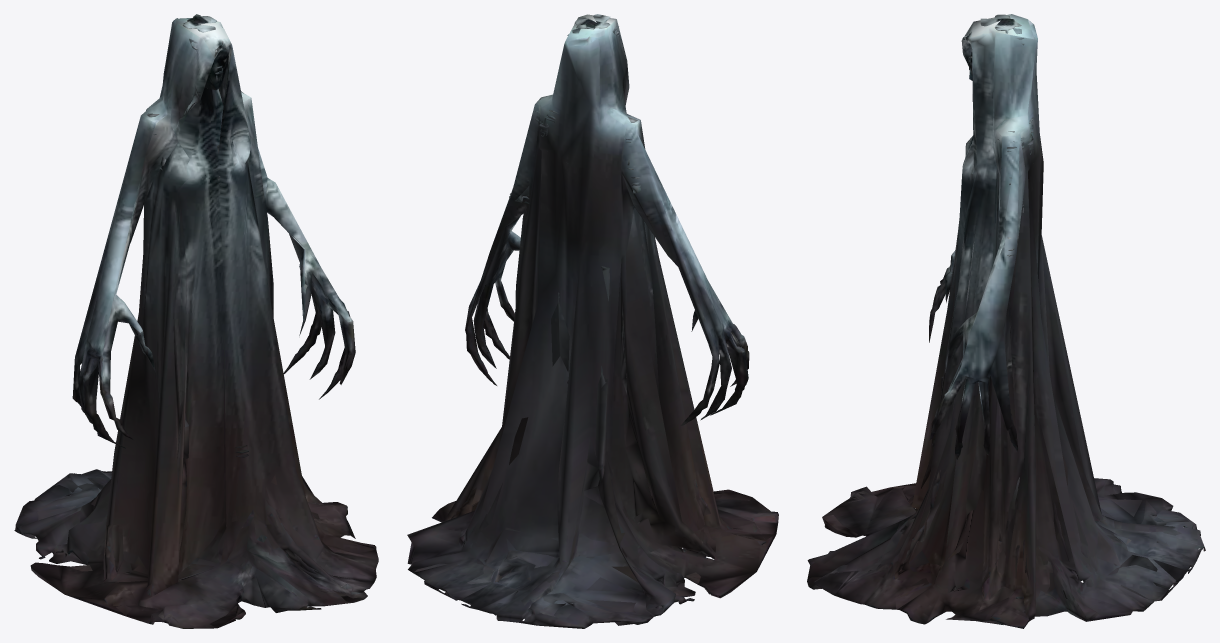
Rendered from silhouette.glb.
3 renders of one model, left to right at view 1: azimuth 30°, elevation 25°; view 2: azimuth 150°, elevation 25°; view 3: azimuth 270°, elevation 25°, orthographic.
Size of the model in its own units: 1.16 by 1.96 by 1.32.
Materials: 1 (1 with a texture image).
